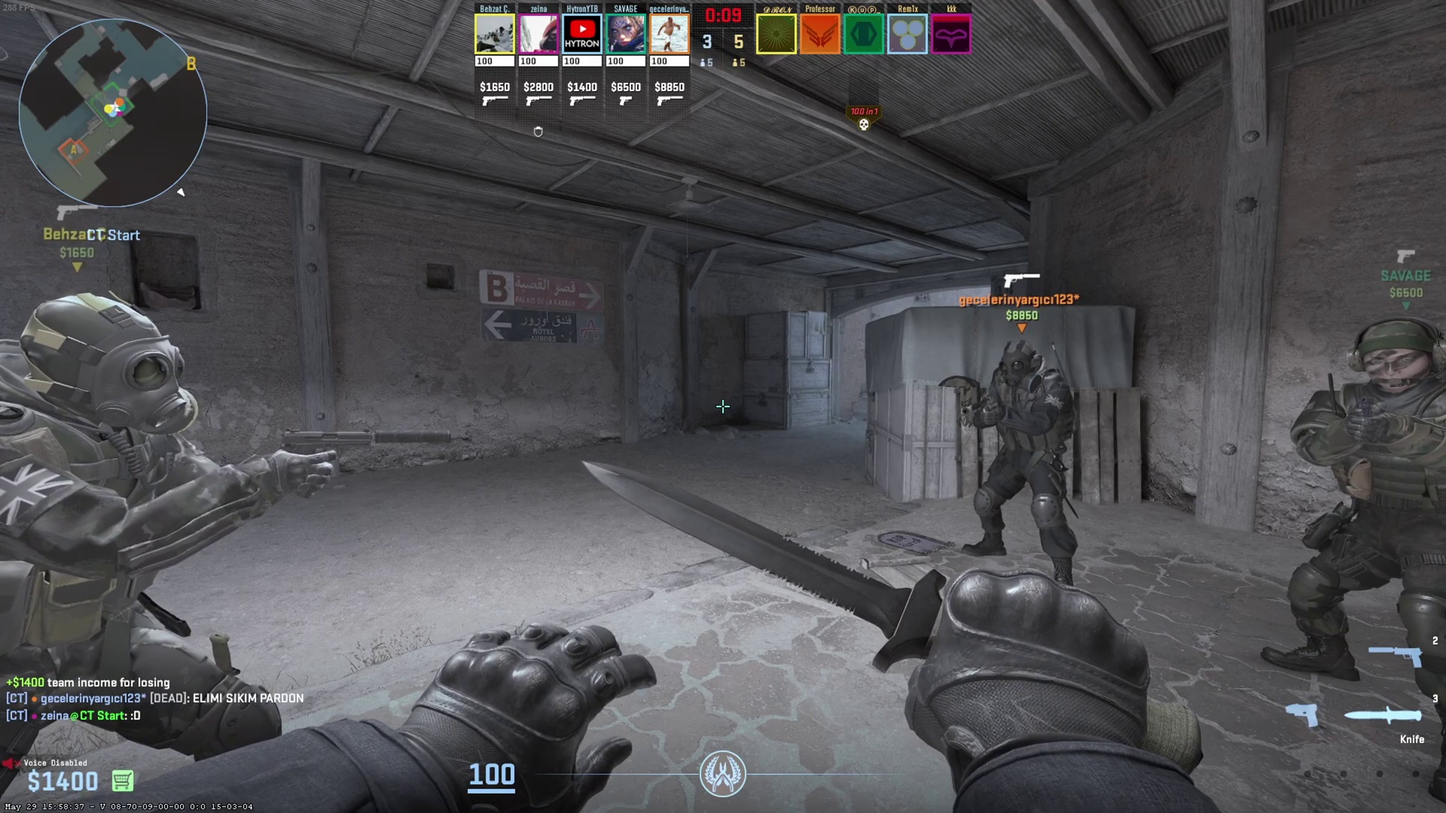CT: (0, 296, 273, 772), (1272, 317, 1445, 798), (963, 340, 1074, 584)
